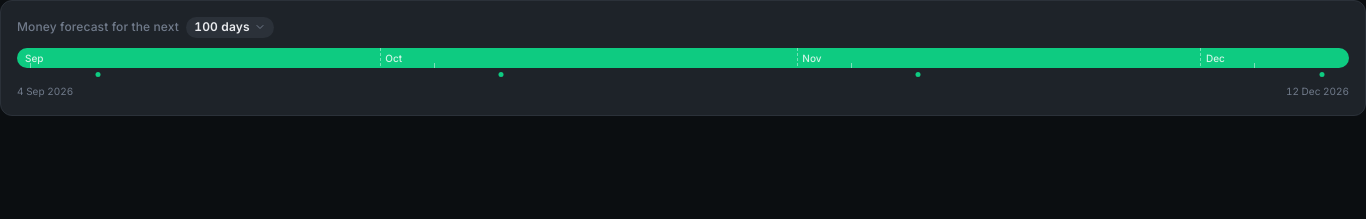
Scenario: Forecast horizon › dragging moves the label but does not move the window
Click the button with test id "projection-horizon": (230, 27) top-left (186, 17), bottom-right (274, 38)
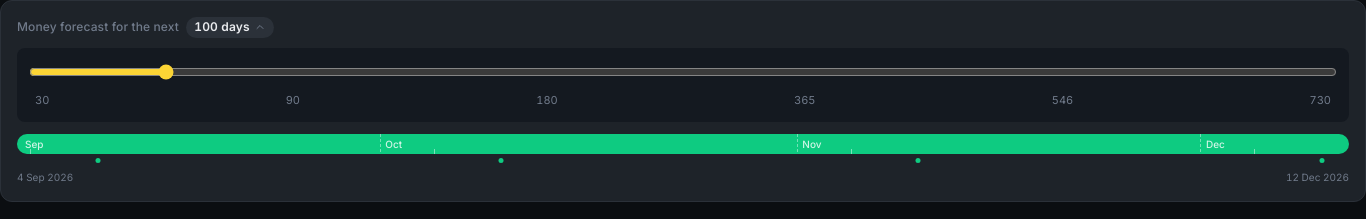
Set the slider with test id "projection-horizon-slider" to "546": (989, 72) top-left (29, 60), bottom-right (1337, 84)
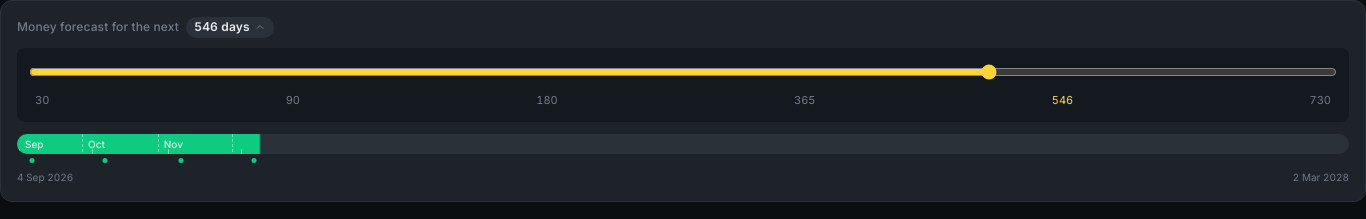
Check: the button with test id "projection-horizon" reads "546 days", box top-left (186, 17), bottom-right (274, 38)
